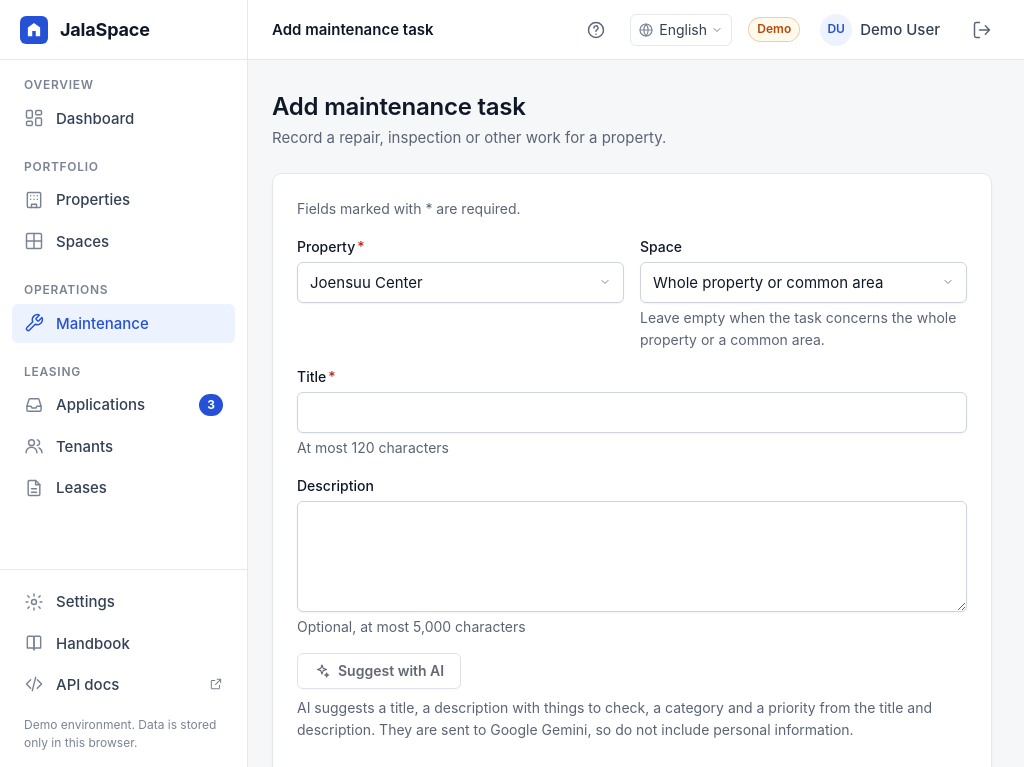
it: AI maintenance suggestions › shows the suggestion and fills the form only when applied
Expected: the button "Suggest with AI" is disabled, [297, 653, 461, 689]
In the text box labelled "Description": [632, 556] box [297, 501, 967, 612], type "water leaking under kitchen sink, since morning"
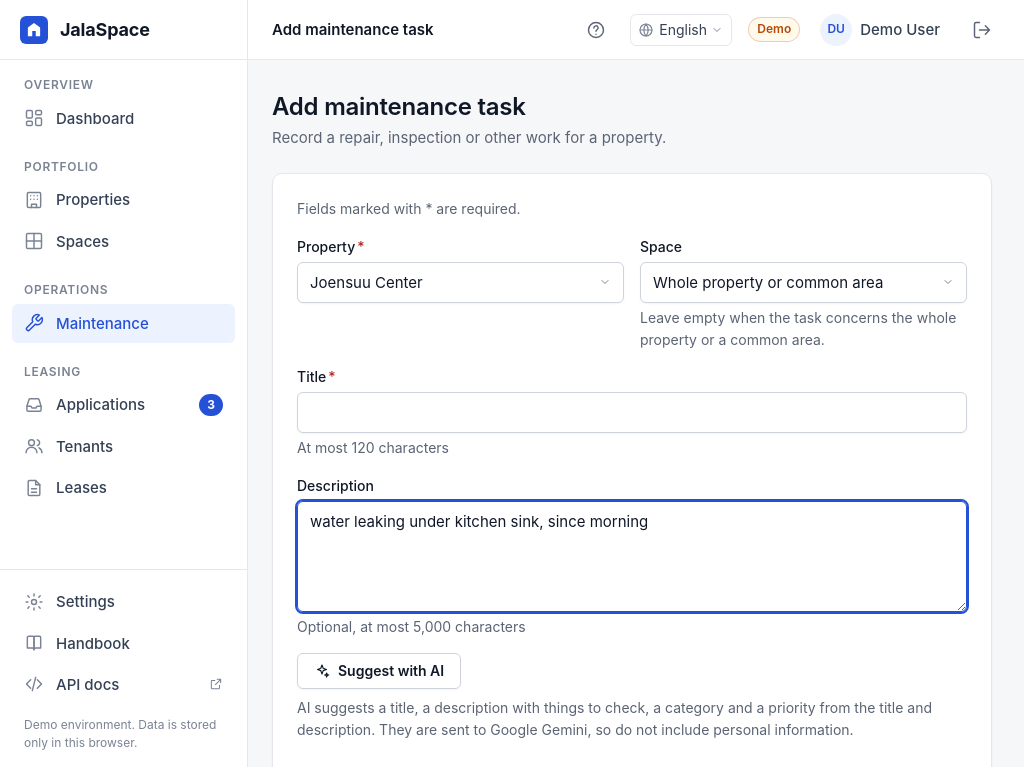
Click the button "Suggest with AI": [379, 671] box [297, 653, 461, 689]
(page scrolled)
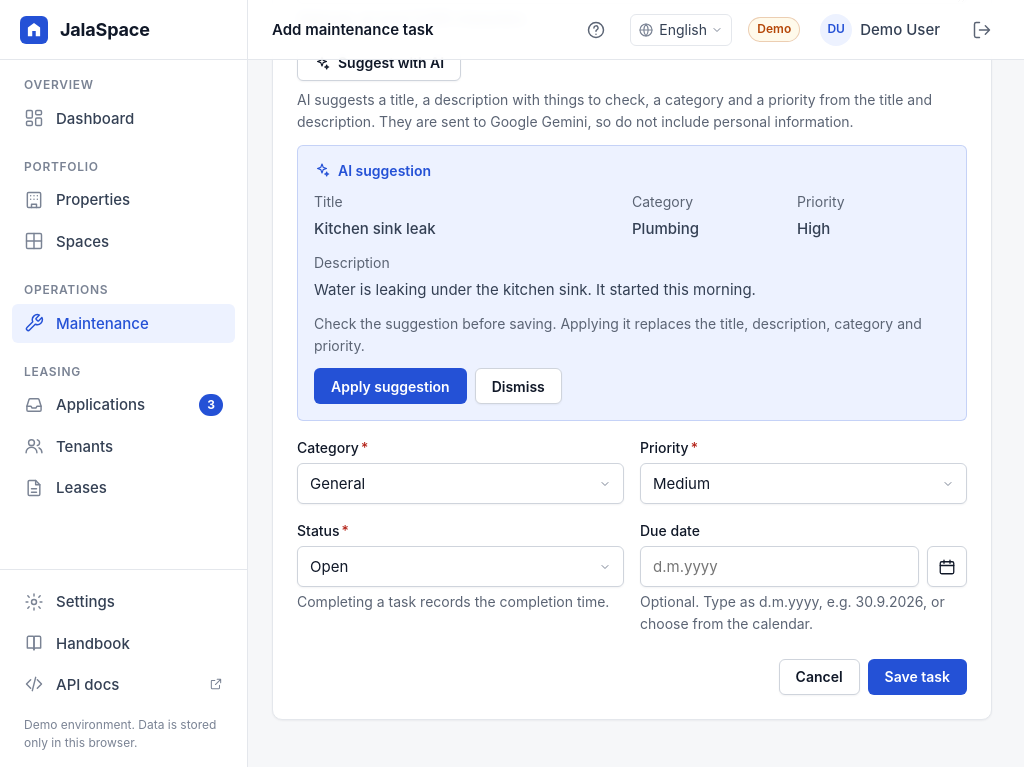
Expected: the text "Kitchen sink leak" is shown, [314, 219, 436, 238]
Expected: the text "Water is leaking under the kitchen sink. It started this morning." is shown, [314, 280, 756, 299]
Expected: the text "Plumbing" is shown, [632, 219, 699, 238]
Click the button "Apply suggestion": [390, 386] box [314, 368, 467, 404]
(page scrolled)
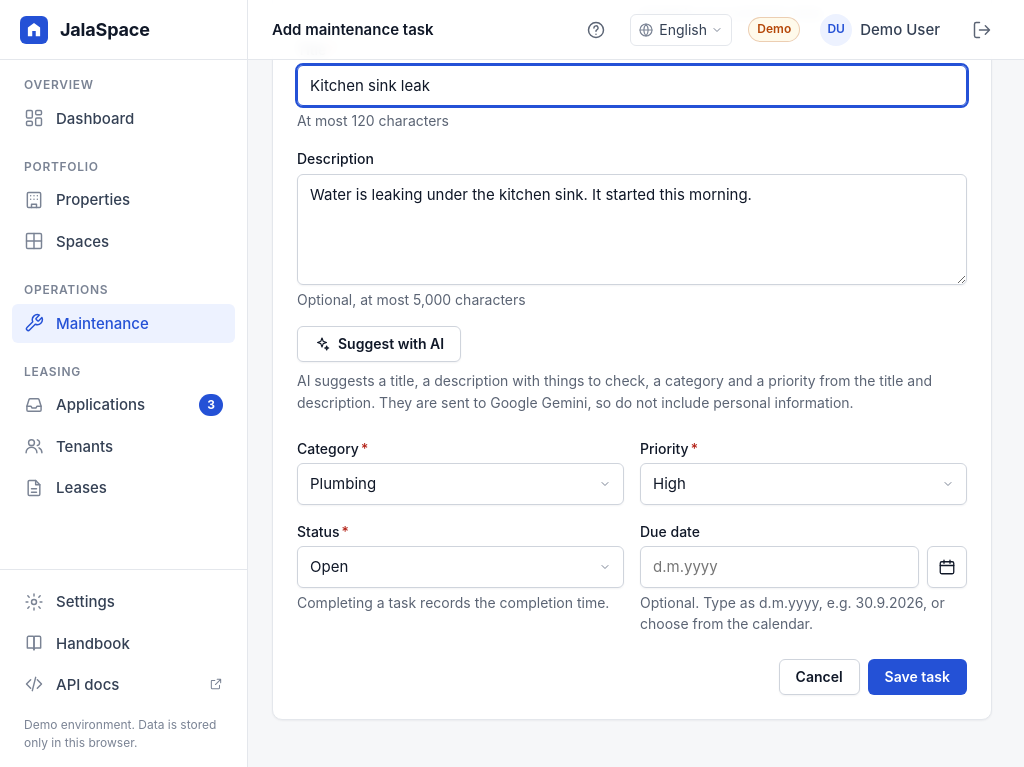
Expected: the field labelled "Title*" holds "Kitchen sink leak", [297, 65, 967, 106]
Expected: the text box labelled "Description" holds "Water is leaking under the kitchen sink. It started this morning.", [297, 174, 967, 285]
Expected: the dropdown labelled "Category*" shows "Plumbing", [297, 463, 624, 505]
